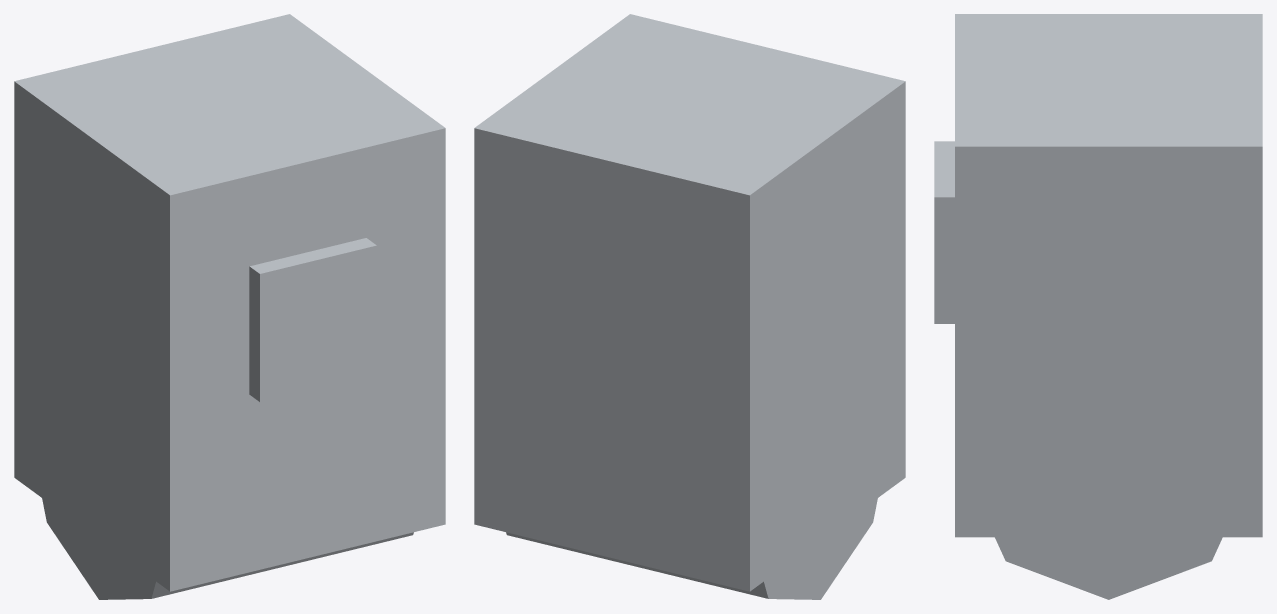
Rendered from npc_crew_upper_leg.fbx.
The picture shows the model from 3 angles, left to right: view 1: azimuth 30°, elevation 25°; view 2: azimuth 150°, elevation 25°; view 3: azimuth 270°, elevation 25°; orthographic projection.
Visible parts, largest first — view 1: npc_crew_upper_leg; view 2: npc_crew_upper_leg; view 3: npc_crew_upper_leg.
Part boxes in pixels (<box>): npc_crew_upper_leg: <box>14,14,445,599</box>; npc_crew_upper_leg: <box>474,14,905,599</box>; npc_crew_upper_leg: <box>934,14,1262,599</box>.
Size of the model in its own units: 99 by 159 by 104.
